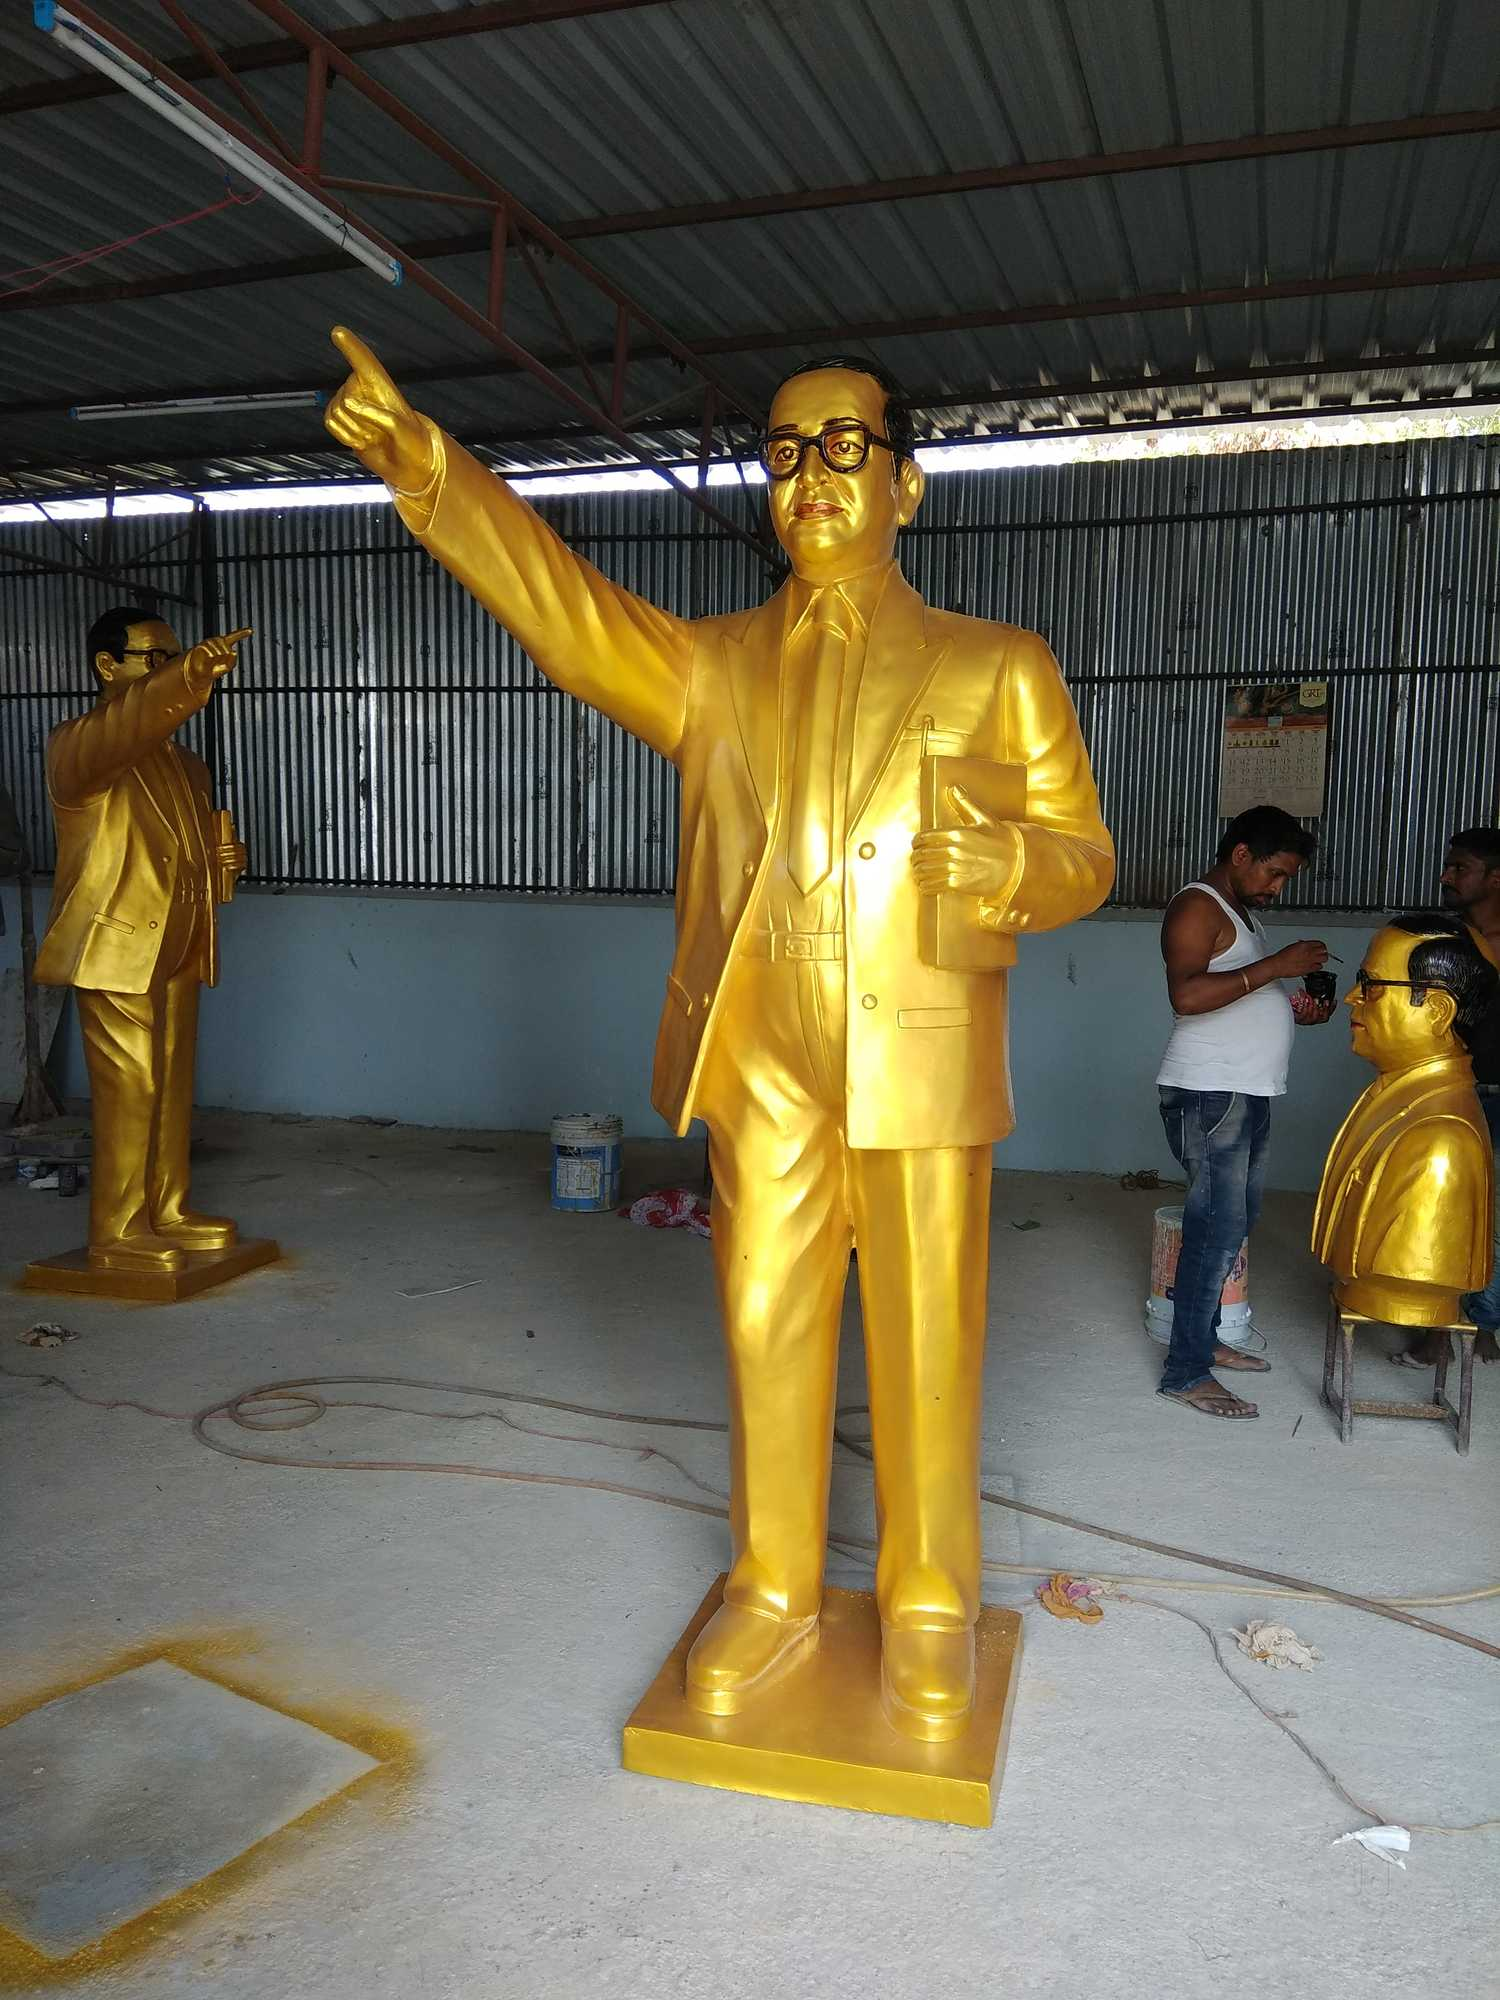person: (1137, 795, 1343, 1436)
person-like: (302, 273, 1130, 1751), (37, 599, 256, 1293), (1304, 917, 1500, 1349)
